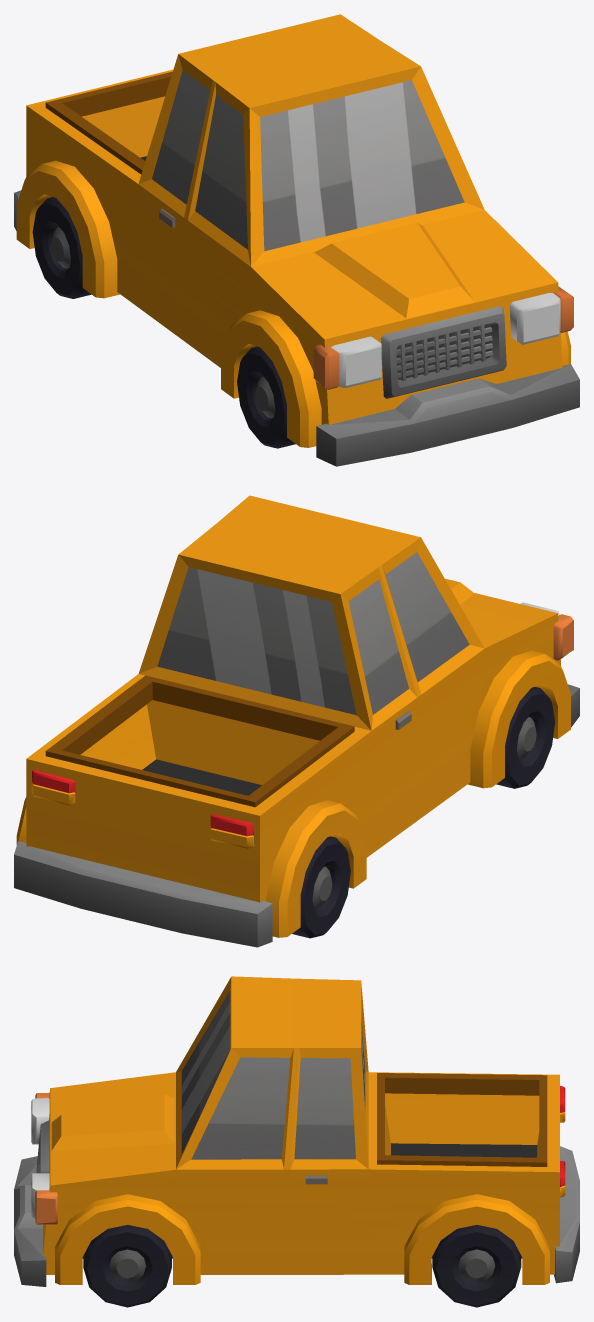
File: PickUp_13.fbx
The picture shows the model from 3 angles, top to bottom: view 1: azimuth 30°, elevation 25°; view 2: azimuth 150°, elevation 25°; view 3: azimuth 270°, elevation 25°; orthographic projection. The views are drawn at different scales.
Parts seen in each view (by area): view 1: PickUp_13, BWhel_BR, BWhel_FR; view 2: PickUp_13, BWhel_BR, BWhel_FR; view 3: PickUp_13, BWhel_BL, BWhel_FL.
Part boxes in pixels (x1,y1,x2,y2): PickUp_13: [14, 14, 579, 466]; BWhel_BR: [32, 197, 91, 298]; BWhel_FR: [237, 346, 295, 448]; PickUp_13: [14, 495, 579, 947]; BWhel_BR: [292, 836, 350, 938]; BWhel_FR: [496, 687, 554, 788]; PickUp_13: [14, 976, 579, 1286]; BWhel_BL: [432, 1225, 521, 1307]; BWhel_FL: [83, 1225, 171, 1307].
Size of the model in its own units: 1.09 by 1.08 by 2.3.
